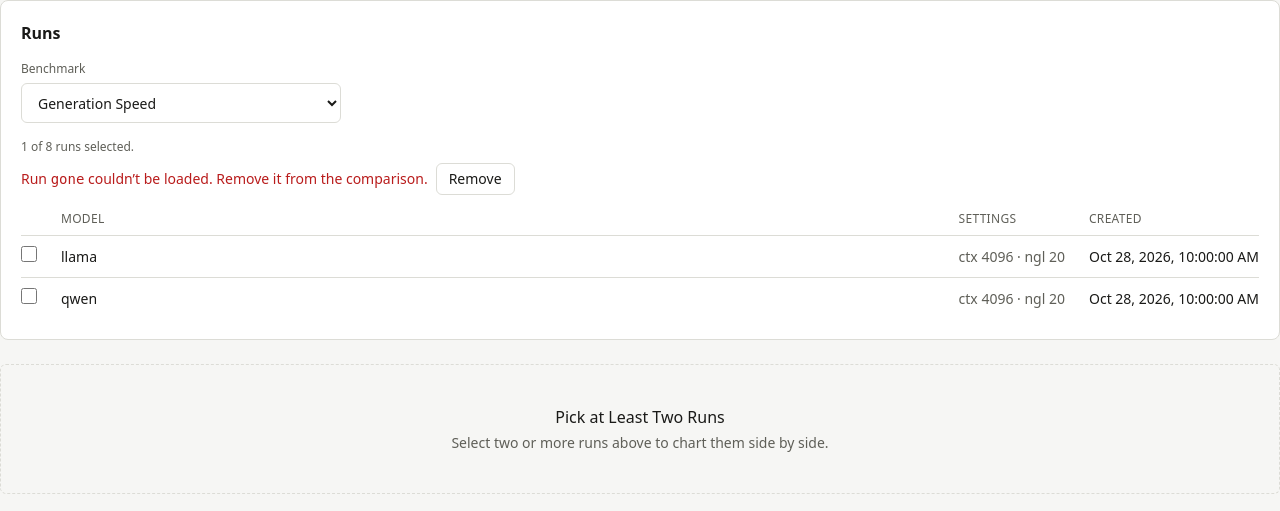
Test: CompareView › lets you remove a picked run that can't be loaded
expect the text "Run gone couldn’t be loaded. Remove it from the comparison." is shown: met, box [21,169,428,189]
Click the button "Remove".
click(475, 179)  # box [436,163,514,195]
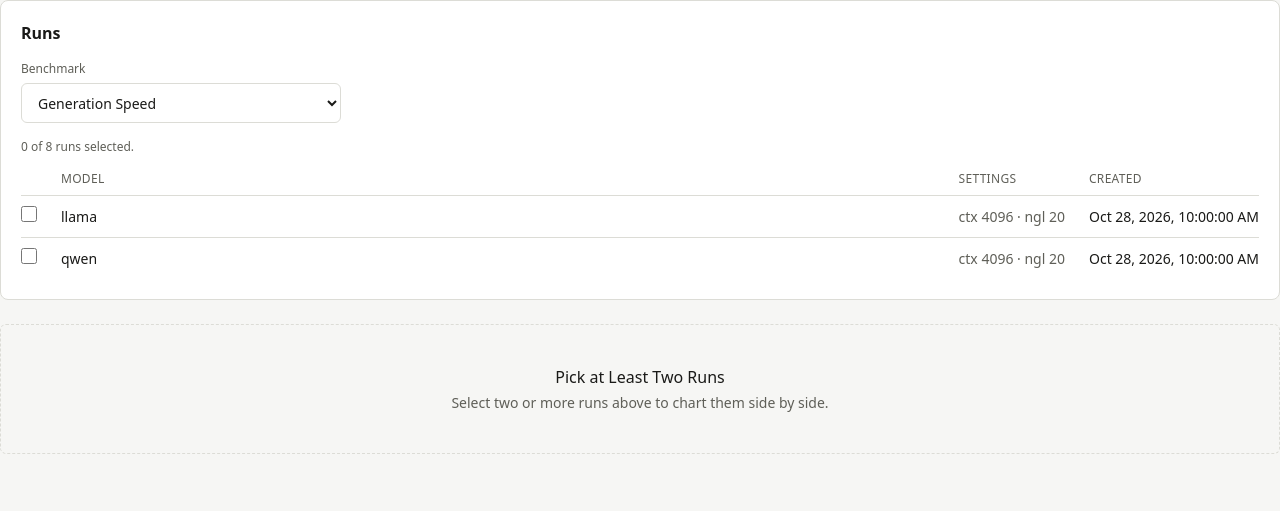
expect the text "couldn’t be loaded" is gone: met
